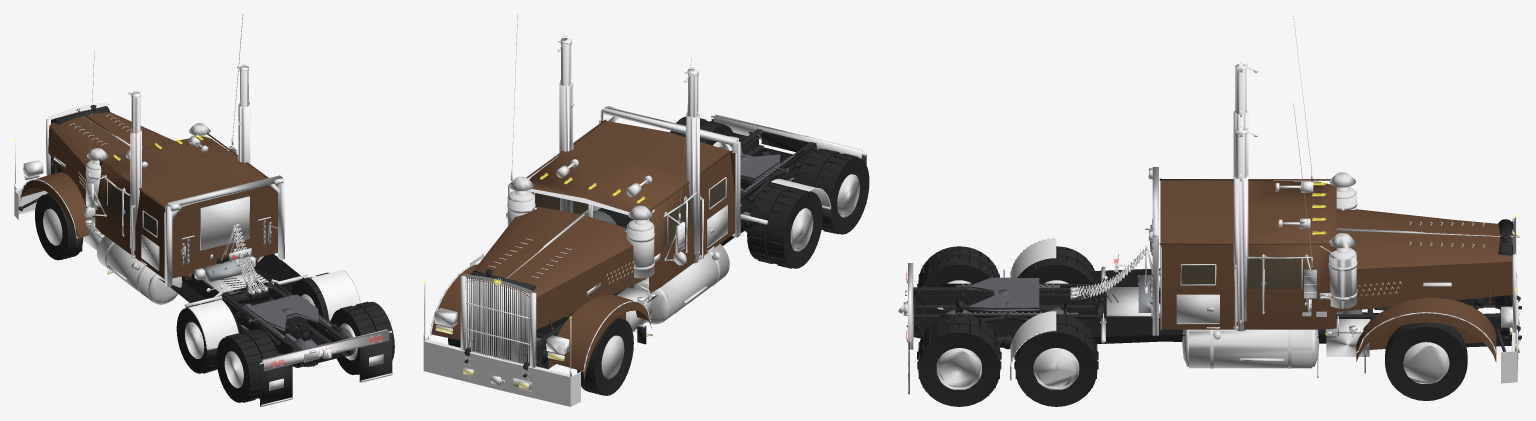
The model's file is vehicle.glb.
The picture shows the model from 3 angles, left to right: view 1: azimuth 30°, elevation 25°; view 2: azimuth 150°, elevation 25°; view 3: azimuth 270°, elevation 25°; orthographic projection. The views are drawn at different scales.
Visible parts, largest first — view 1: BODY_Sleeper_36Inch_Box, WHEEL_Commercial_11R24_5_Tires, BODY_Cab_Monocoque_Shell, JEWELRY_Headache_Rack_Aluminum_Structure, BODY_Hood_Butterfly_Panels, JEWELRY_Stainless_Quarter_Fenders, HARDWARE_Dual_120Gal_Fuel_Tanks, CHASSIS_Frame_Rails, JEWELRY_Kenworth_Embossed_Mudflaps, WHEEL_Alcoa_24_5_Forged_Rims, JEWELRY_Exhaust_Perforated_Heat_Shields, BODY_Front_Fender_Wings (+20 smaller); view 2: BODY_Hood_Butterfly_Panels, WHEEL_Commercial_11R24_5_Tires, BODY_Cab_Monocoque_Shell, BODY_Sleeper_36Inch_Box, JEWELRY_Texas_18Inch_Chrome_Bumper, JEWELRY_Radiator_Chrome_34_Slats, BODY_Front_Fender_Wings, HARDWARE_Dual_120Gal_Fuel_Tanks, JEWELRY_Exhaust_Perforated_Heat_Shields, HARDWARE_Dual_15Inch_Donaldson_Air_Cleaners, JEWELRY_Radiator_Bug_Screen, WHEEL_Alcoa_24_5_Forged_Rims (+17 smaller); view 3: WHEEL_Commercial_11R24_5_Tires, BODY_Hood_Butterfly_Panels, BODY_Cab_Monocoque_Shell, BODY_Sleeper_36Inch_Box, CHASSIS_Frame_Rails, HARDWARE_Dual_120Gal_Fuel_Tanks, WHEEL_Alcoa_24_5_Forged_Rims, BODY_Front_Fender_Wings, HARDWARE_Dual_15Inch_Donaldson_Air_Cleaners, JEWELRY_Exhaust_Perforated_Heat_Shields, HARDWARE_Holland_3500_Fifth_Wheel, BODY_Optical_Dielectric_Window_Glass (+12 smaller).
Part boxes in pixels (left/top/right/bottom): BODY_Sleeper_36Inch_Box: left=135, top=162, right=277, bottom=278; WHEEL_Commercial_11R24_5_Tires: left=35, top=193, right=394, bottom=402; BODY_Cab_Monocoque_Shell: left=95, top=133, right=268, bottom=279; JEWELRY_Headache_Rack_Aluminum_Structure: left=165, top=175, right=284, bottom=287; BODY_Hood_Butterfly_Panels: left=48, top=109, right=173, bottom=199; JEWELRY_Stainless_Quarter_Fenders: left=188, top=269, right=360, bottom=349; HARDWARE_Dual_120Gal_Fuel_Tanks: left=97, top=236, right=274, bottom=304; CHASSIS_Frame_Rails: left=54, top=172, right=350, bottom=367; JEWELRY_Kenworth_Embossed_Mudflaps: left=260, top=332, right=392, bottom=406; WHEEL_Alcoa_24_5_Forged_Rims: left=43, top=208, right=357, bottom=388; JEWELRY_Exhaust_Perforated_Heat_Shields: left=130, top=102, right=250, bottom=251; BODY_Front_Fender_Wings: left=20, top=164, right=89, bottom=245; BODY_Hood_Butterfly_Panels: left=466, top=207, right=646, bottom=329; WHEEL_Commercial_11R24_5_Tires: left=448, top=116, right=869, bottom=395; BODY_Cab_Monocoque_Shell: left=526, top=119, right=732, bottom=293; BODY_Sleeper_36Inch_Box: left=573, top=121, right=735, bottom=256; JEWELRY_Texas_18Inch_Chrome_Bumper: left=423, top=333, right=582, bottom=406; JEWELRY_Radiator_Chrome_34_Slats: left=465, top=278, right=530, bottom=365; BODY_Front_Fender_Wings: left=431, top=264, right=651, bottom=380; HARDWARE_Dual_120Gal_Fuel_Tanks: left=585, top=210, right=729, bottom=324; JEWELRY_Exhaust_Perforated_Heat_Shields: left=559, top=80, right=699, bottom=256; HARDWARE_Dual_15Inch_Donaldson_Air_Cleaners: left=507, top=176, right=654, bottom=278; JEWELRY_Radiator_Bug_Screen: left=467, top=278, right=530, bottom=363; WHEEL_Alcoa_24_5_Forged_Rims: left=601, top=142, right=859, bottom=378; WHEEL_Commercial_11R24_5_Tires: left=917, top=246, right=1467, bottom=406; BODY_Hood_Butterfly_Panels: left=1336, top=209, right=1517, bottom=311; BODY_Cab_Monocoque_Shell: left=1159, top=179, right=1336, bottom=329; BODY_Sleeper_36Inch_Box: left=1161, top=180, right=1234, bottom=329; CHASSIS_Frame_Rails: left=913, top=283, right=1521, bottom=338; HARDWARE_Dual_120Gal_Fuel_Tanks: left=1182, top=329, right=1319, bottom=368; WHEEL_Alcoa_24_5_Forged_Rims: left=936, top=280, right=1449, bottom=389; BODY_Front_Fender_Wings: left=1356, top=298, right=1496, bottom=362; HARDWARE_Dual_15Inch_Donaldson_Air_Cleaners: left=1328, top=172, right=1357, bottom=308; JEWELRY_Exhaust_Perforated_Heat_Shields: left=1233, top=110, right=1248, bottom=325; HARDWARE_Holland_3500_Fifth_Wheel: left=955, top=269, right=1059, bottom=314; BODY_Optical_Dielectric_Window_Glass: left=1181, top=258, right=1306, bottom=288.
Size of what is drawn, in the model's own units: 2.93 by 4.52 by 8.35.
